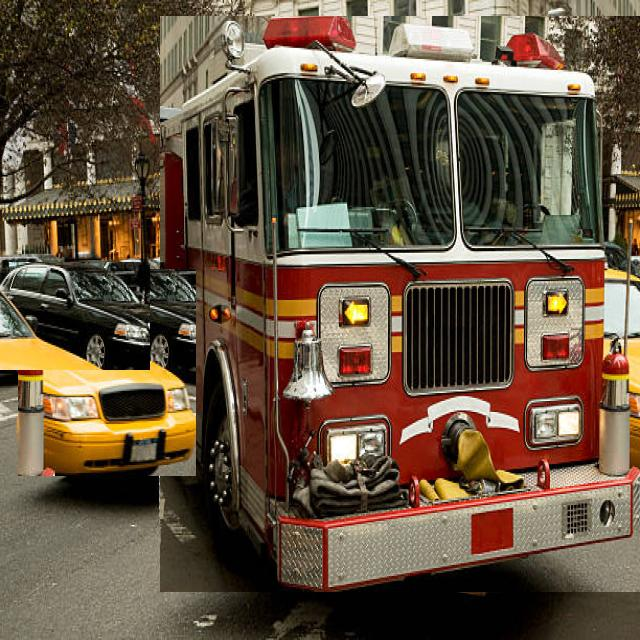car: (18, 270, 196, 476), (0, 262, 150, 370)
emergency: (160, 17, 640, 592)
